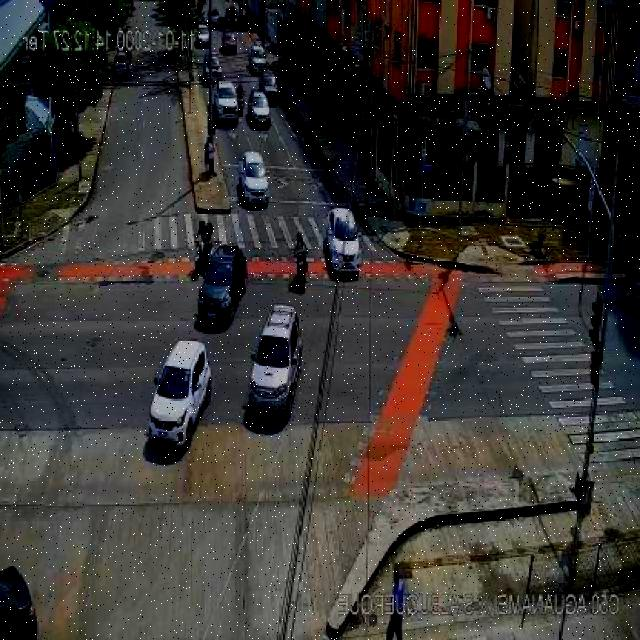Car: (144, 340, 216, 457), (245, 306, 303, 424), (195, 242, 248, 328), (323, 208, 361, 281), (2, 564, 38, 636), (237, 151, 270, 206), (212, 82, 240, 126), (246, 89, 271, 129), (258, 72, 278, 102), (113, 50, 132, 81), (248, 44, 267, 74), (203, 54, 222, 80), (220, 31, 238, 55), (196, 24, 210, 48), (208, 9, 220, 27)
Cycle: (294, 231, 310, 287)
